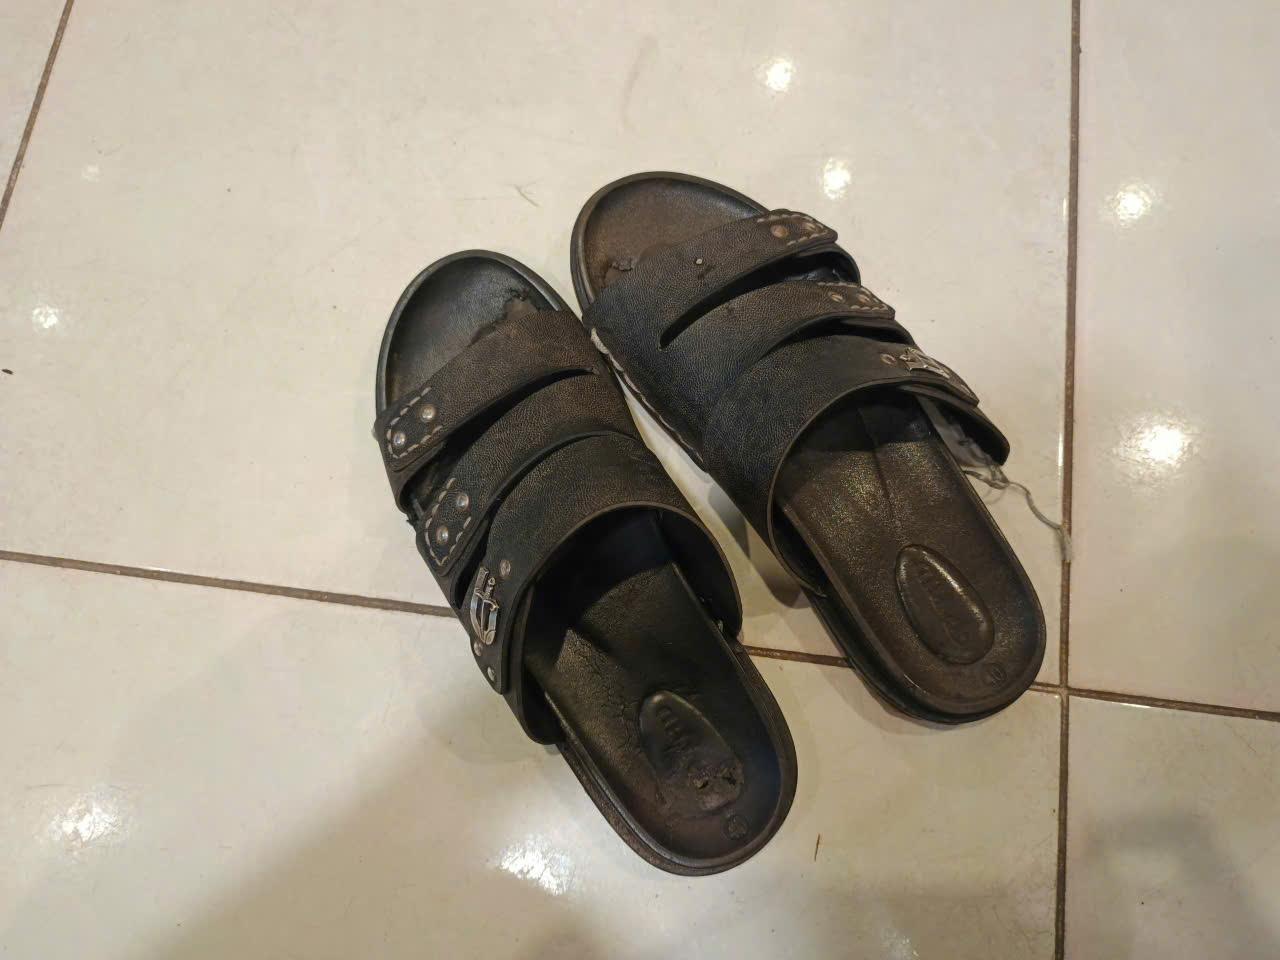Con lai: (374, 242, 801, 875), (574, 164, 1048, 719)
